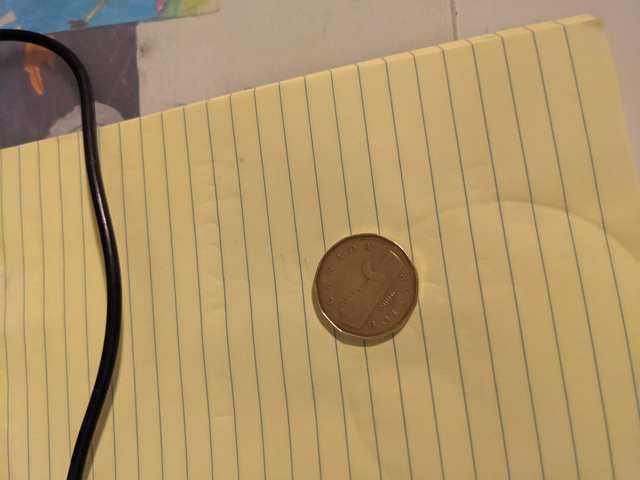loonie: (305, 220, 427, 349)
